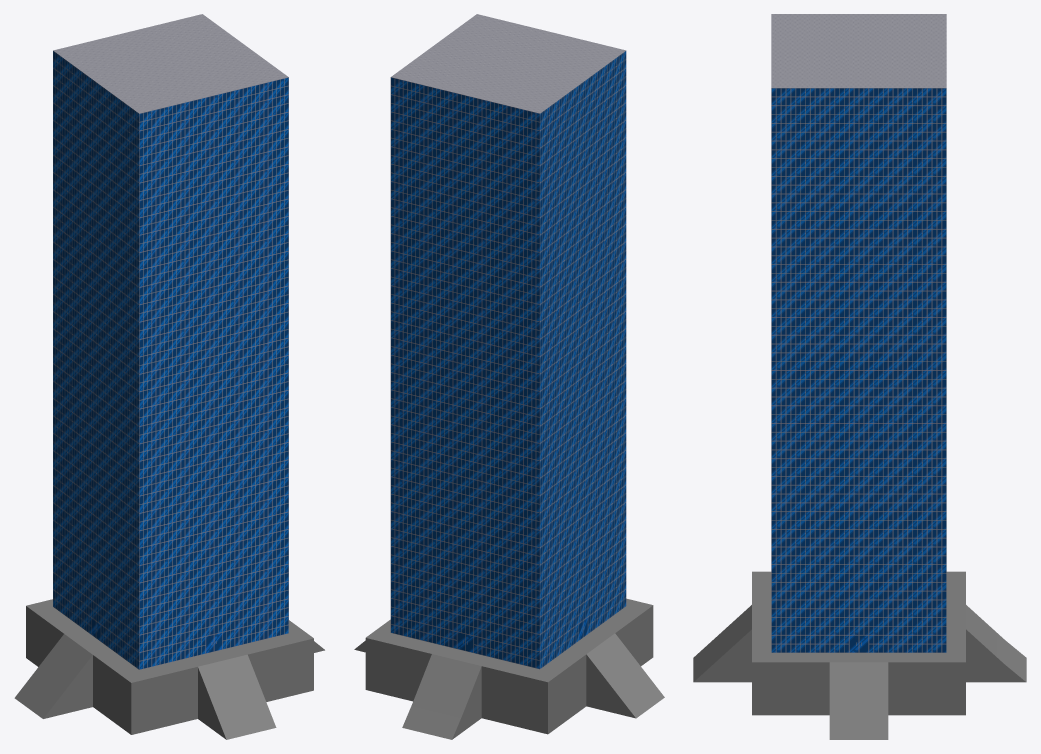
Rendered from Skyscraper.fbx.
3 views of the same model, side by side, from view 1: azimuth 30°, elevation 25°; view 2: azimuth 150°, elevation 25°; view 3: azimuth 270°, elevation 25° (orthographic).
Parts seen in each view (by area): view 1: Skyscraper001, Building_Slops001; view 2: Skyscraper001, Building_Slops001; view 3: Skyscraper001, Building_Slops001.
Part boxes in pixels (x1,y1,x2,y2): Skyscraper001: (53,14,288,669); Building_Slops001: (14,599,324,739); Skyscraper001: (390,14,626,669); Building_Slops001: (354,598,664,739); Skyscraper001: (771,14,946,652); Building_Slops001: (693,571,1026,739).
Size of the model in its own units: 3400 by 7019 by 3420.
